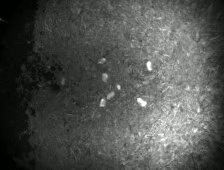corn: (135, 96, 149, 109), (104, 89, 118, 101), (97, 96, 109, 109), (145, 59, 155, 74), (100, 70, 110, 85), (96, 55, 108, 67), (59, 75, 67, 87), (115, 83, 122, 92)
